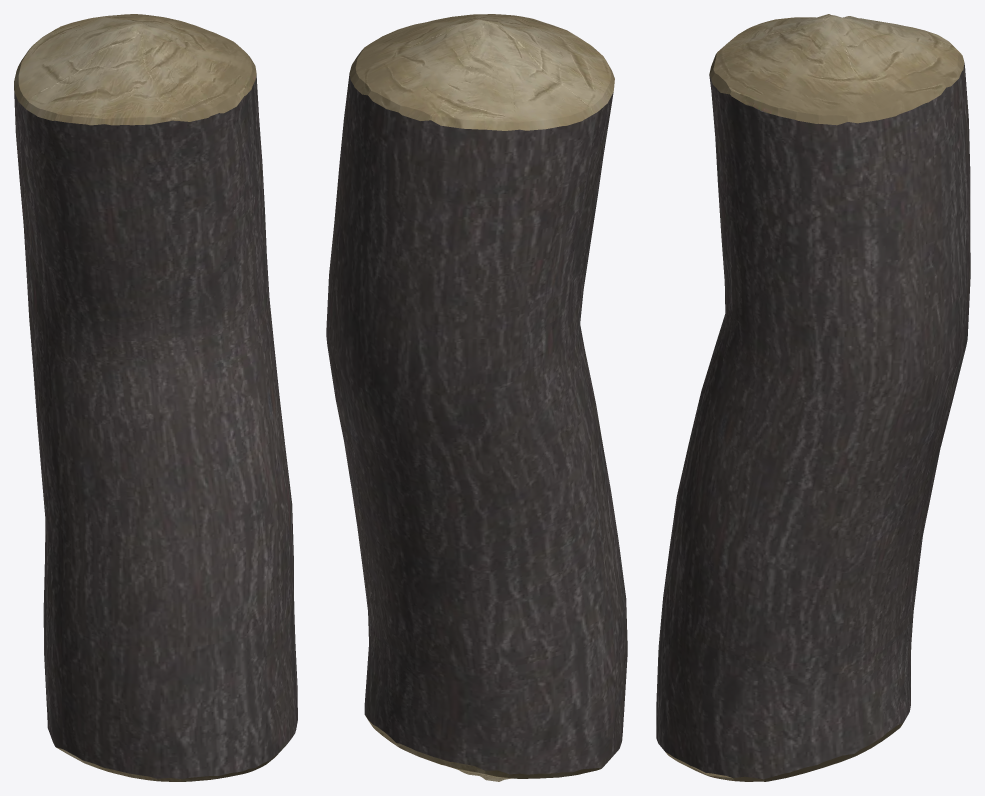
3 renders of one model, left to right at view 1: azimuth 30°, elevation 25°; view 2: azimuth 150°, elevation 25°; view 3: azimuth 270°, elevation 25°, orthographic. The views are drawn at different scales.
Visible parts, largest first — view 1: SM_BM_Oak_Tree_02_quarter_02_LOD0; view 2: SM_BM_Oak_Tree_02_quarter_02_LOD0; view 3: SM_BM_Oak_Tree_02_quarter_02_LOD0.
Boxes of the visible parts, x1,y1,x2,y2 form: SM_BM_Oak_Tree_02_quarter_02_LOD0: [14, 14, 297, 781]; SM_BM_Oak_Tree_02_quarter_02_LOD0: [326, 14, 627, 781]; SM_BM_Oak_Tree_02_quarter_02_LOD0: [656, 14, 970, 781].
Bounding box in the file's own units: 0.9866 × 2.94 × 1.12.
Materials: 1 (1 with a texture image).
